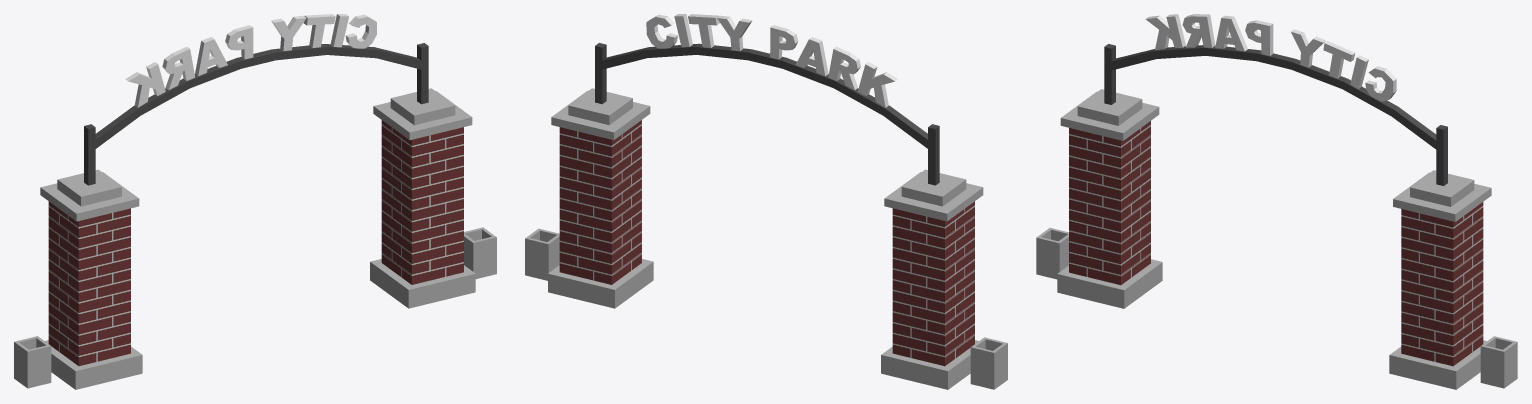
Rendered from Park_Gate.fbx.
The picture shows the model from 3 angles, left to right: view 1: azimuth 30°, elevation 25°; view 2: azimuth 150°, elevation 25°; view 3: azimuth 330°, elevation 25°; orthographic projection.
Visible parts, largest first — view 1: _T_Park_Gates_1, Park_Gates_1_Text_T_Colors; view 2: _T_Park_Gates_1, Park_Gates_1_Text_T_Colors; view 3: _T_Park_Gates_1, Park_Gates_1_Text_T_Colors.
Boxes of the visible parts, bbox=[...] form: _T_Park_Gates_1: bbox=[14, 43, 496, 389]; Park_Gates_1_Text_T_Colors: bbox=[125, 14, 376, 107]; _T_Park_Gates_1: bbox=[525, 43, 1007, 389]; Park_Gates_1_Text_T_Colors: bbox=[646, 14, 898, 107]; _T_Park_Gates_1: bbox=[1036, 44, 1517, 389]; Park_Gates_1_Text_T_Colors: bbox=[1145, 14, 1396, 101].
Bounding box in the file's own units: 1259 × 774 × 180.
